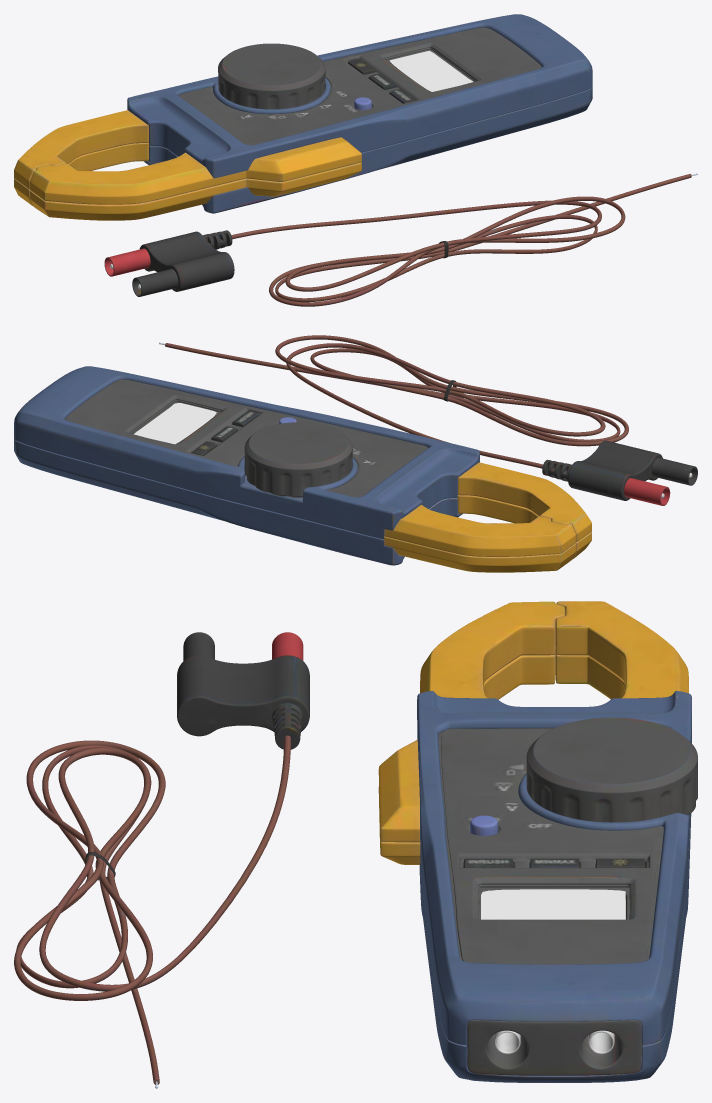
Rendered from pinza_amperimetrica.glb.
3 renders of one model, top to bottom at view 1: azimuth 30°, elevation 25°; view 2: azimuth 150°, elevation 25°; view 3: azimuth 270°, elevation 25°, orthographic. The views are drawn at different scales.
Visible parts, largest first — view 1: body_01_mesh_00, testLead_01_mesh_00, knob_01_mesh_00, glass_01_mesh_00; view 2: body_01_mesh_00, testLead_01_mesh_00, knob_01_mesh_00, glass_01_mesh_00; view 3: body_01_mesh_00, testLead_01_mesh_00, knob_01_mesh_00, glass_01_mesh_00.
Boxes of the visible parts, bbox=[...] form: body_01_mesh_00: bbox=[14, 14, 592, 220]; testLead_01_mesh_00: bbox=[104, 173, 697, 306]; knob_01_mesh_00: bbox=[218, 43, 325, 109]; glass_01_mesh_00: bbox=[389, 50, 472, 91]; body_01_mesh_00: bbox=[14, 366, 591, 572]; testLead_01_mesh_00: bbox=[159, 335, 697, 505]; knob_01_mesh_00: bbox=[244, 422, 352, 497]; glass_01_mesh_00: bbox=[134, 403, 216, 444]; body_01_mesh_00: bbox=[378, 601, 691, 1082]; testLead_01_mesh_00: bbox=[14, 632, 309, 1088]; knob_01_mesh_00: bbox=[526, 717, 697, 822]; glass_01_mesh_00: bbox=[481, 889, 625, 919].
Size of the model in its own units: 0.2417 by 0.0322 by 0.1644.
2 materials, 1 textured.
